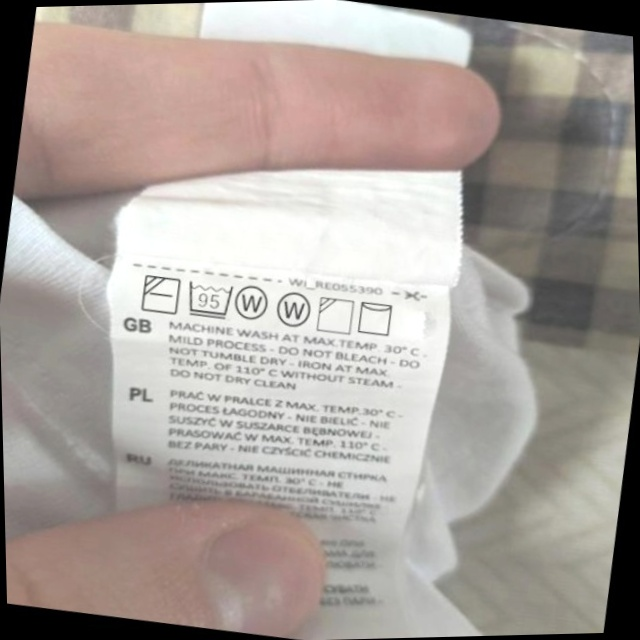95C: (183, 276, 237, 322)
dry_flat_in_shade: (137, 270, 183, 318)
line_dry: (354, 296, 399, 340)
shade_dry: (313, 293, 358, 338)
wet_clean: (232, 279, 274, 324), (273, 288, 315, 333)
